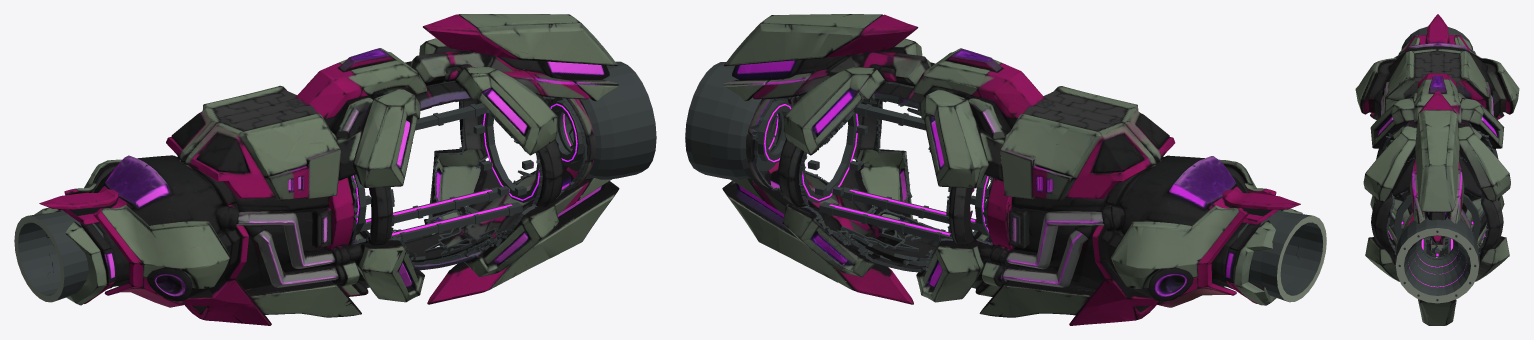
The model's file is black_hole_generator.glb.
The picture shows the model from 3 angles, left to right: view 1: azimuth 30°, elevation 25°; view 2: azimuth 150°, elevation 25°; view 3: azimuth 270°, elevation 25°; orthographic projection. The views are drawn at different scales.
Parts seen in each view (by area): view 1: output_unwrapped, Finished_Containment_Interior, Front_Muzzle_Deep_Bore, Slim_Rear_Arm_Socket; view 2: output_unwrapped, Finished_Containment_Interior, Front_Muzzle_Deep_Bore, Slim_Rear_Arm_Socket; view 3: output_unwrapped, Front_Muzzle_Deep_Bore, Finished_Containment_Interior, Slim_Rear_Arm_Socket.
Part boxes in pixels (x1,y1,x2,y2): output_unwrapped: (34,14,619,325); Finished_Containment_Interior: (351,81,587,269); Front_Muzzle_Deep_Bore: (548,61,656,179); Slim_Rear_Arm_Socket: (14,210,103,302); output_unwrapped: (722,14,1302,325); Finished_Containment_Interior: (750,81,993,272); Front_Muzzle_Deep_Bore: (685,62,793,180); Slim_Rear_Arm_Socket: (1238,210,1326,302); output_unwrapped: (1355,14,1519,325); Front_Muzzle_Deep_Bore: (1395,216,1479,303); Finished_Containment_Interior: (1382,123,1502,259); Slim_Rear_Arm_Socket: (1401,26,1473,50).
Size of the model in its own units: 1.76 by 0.793 by 0.5779.
Materials: 4 (1 with a texture image).
